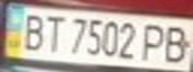0: (100, 17, 121, 59)
2: (118, 19, 142, 61)
5: (81, 16, 106, 56)
7: (63, 15, 87, 55)
B: (157, 21, 193, 64), (15, 10, 48, 52)
P: (139, 20, 172, 63)
T: (39, 12, 69, 53)
